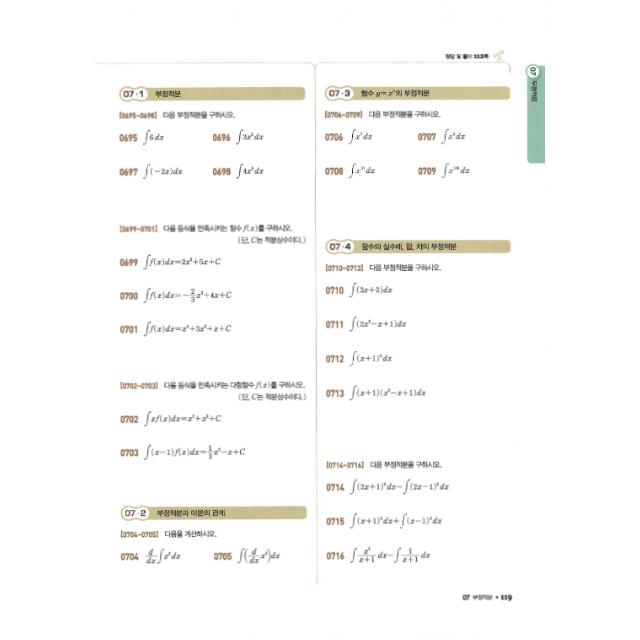many_in_one: (112, 218, 312, 248), (112, 375, 312, 403), (320, 258, 518, 280), (112, 105, 314, 124), (115, 524, 311, 542), (320, 104, 504, 122), (322, 455, 514, 471)
small: (115, 437, 253, 467), (326, 472, 454, 502), (115, 282, 238, 312), (324, 506, 452, 534), (116, 314, 242, 342), (324, 540, 440, 570), (115, 403, 232, 432), (321, 376, 431, 406), (116, 246, 232, 274), (322, 307, 418, 337), (115, 154, 192, 188), (205, 542, 292, 570), (412, 118, 482, 150), (324, 343, 404, 371), (323, 277, 401, 305), (206, 120, 274, 152), (207, 157, 275, 185), (413, 156, 481, 184), (116, 542, 186, 568), (322, 121, 381, 151), (321, 156, 381, 184), (116, 120, 170, 150)
